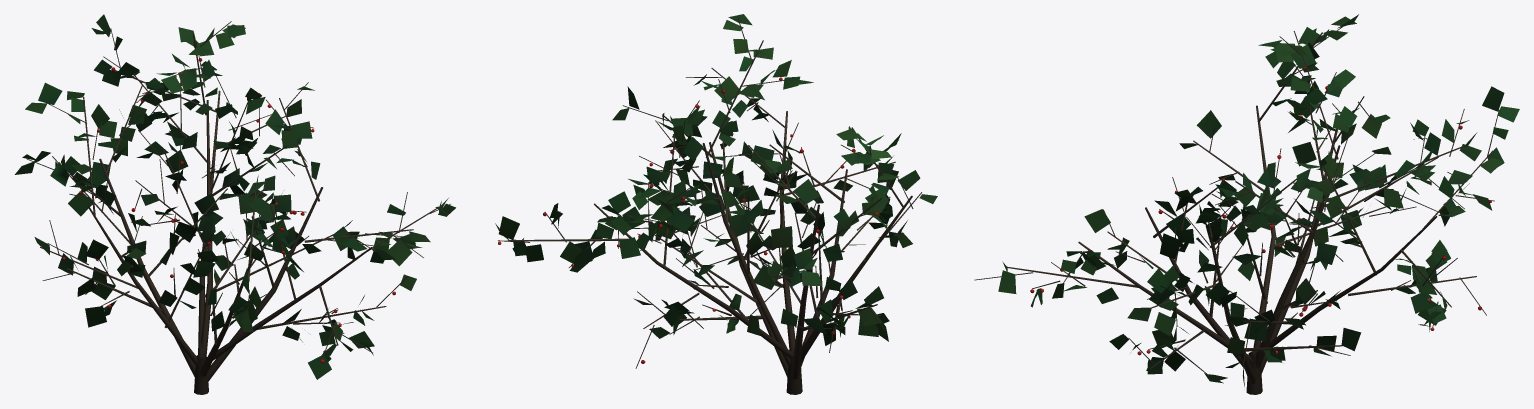
File: bush-holly-a.lod0.glb
The picture shows the model from 3 angles, left to right: view 1: azimuth 30°, elevation 25°; view 2: azimuth 150°, elevation 25°; view 3: azimuth 270°, elevation 25°; orthographic projection. The views are drawn at different scales.
Visible parts, largest first — view 1: bush-holly-a.lod0; view 2: bush-holly-a.lod0; view 3: bush-holly-a.lod0.
Part boxes in pixels (left/top/right/bottom): bush-holly-a.lod0: left=15, top=14, right=455, bottom=394; bush-holly-a.lod0: left=495, top=14, right=937, bottom=394; bush-holly-a.lod0: left=974, top=14, right=1519, bottom=394.
Bounding box in the file's own units: 1.85 × 1.81 × 2.41.
